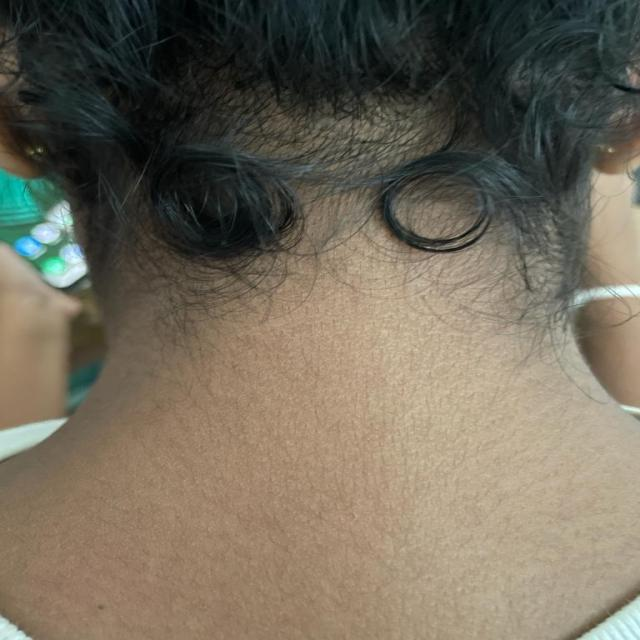Healthy: (4, 183, 640, 584)
